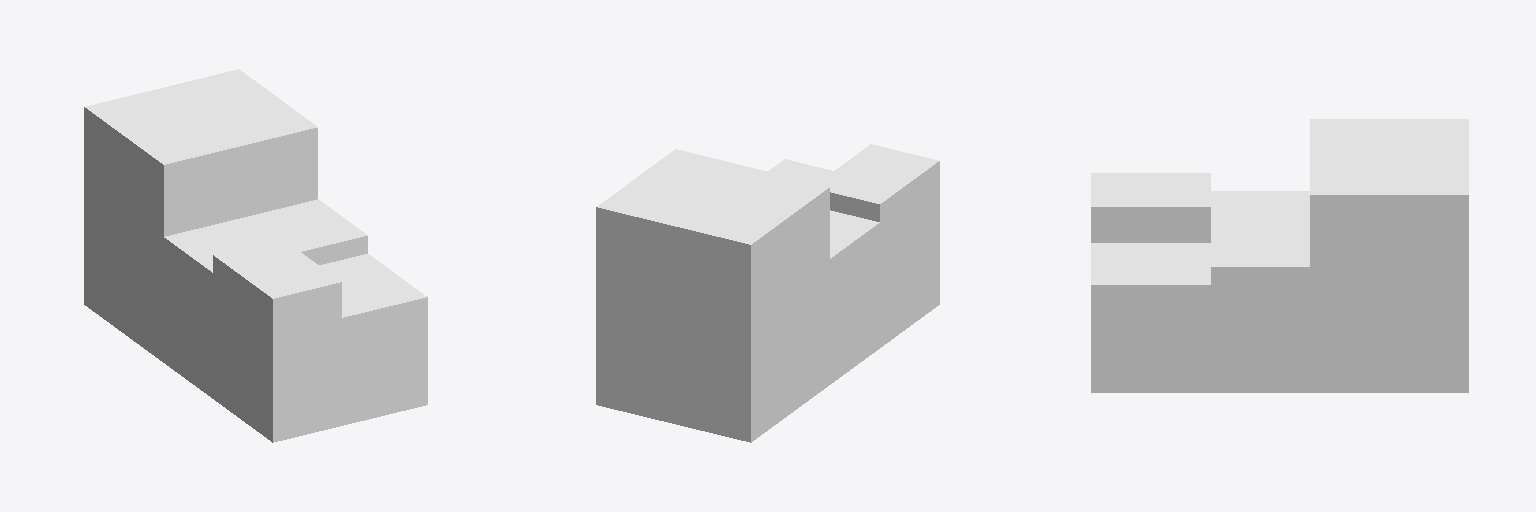
The model's file is ogre-2.obj.
The picture shows the model from 3 angles: view 1: azimuth 30°, elevation 25°; view 2: azimuth 150°, elevation 25°; view 3: azimuth 270°, elevation 25°; orthographic projection.
Parts seen in each view (by area): view 1: object 1; view 2: object 1; view 3: object 1.
Boxes of the visible parts, <box> form: object 1: <box>84,69,427,442</box>; object 1: <box>596,144,939,442</box>; object 1: <box>1091,119,1468,392</box>.
Bounding box in the file's own units: 1.8 × 2.2 × 3.8.